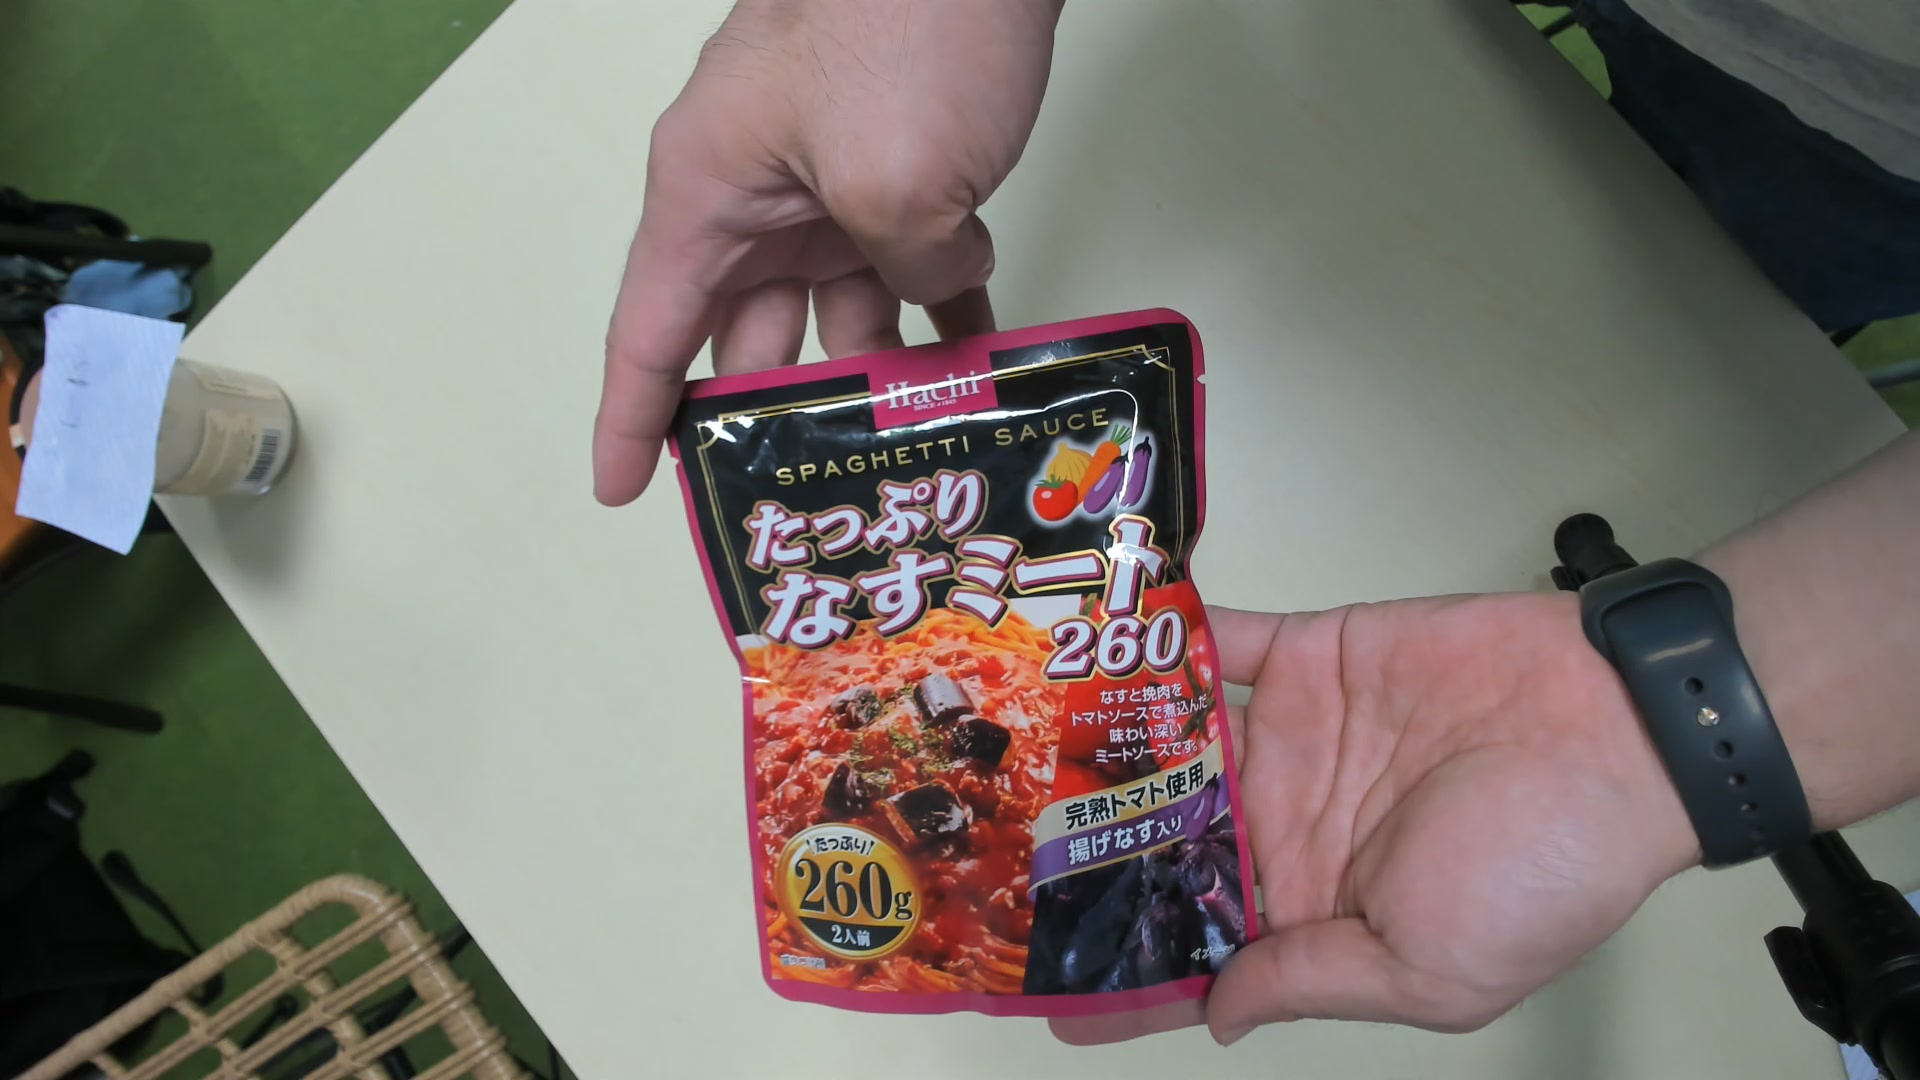PastaSauce_200-299g_NonHalal_NonHealthy: (676, 328, 1263, 1015)
